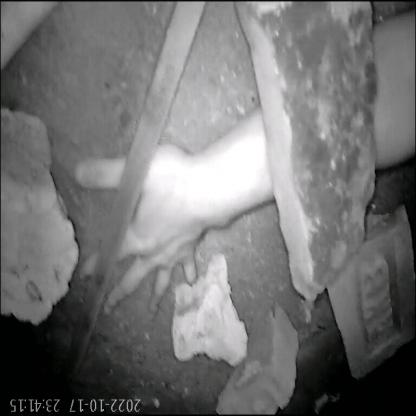hand: (55, 84, 331, 320)
